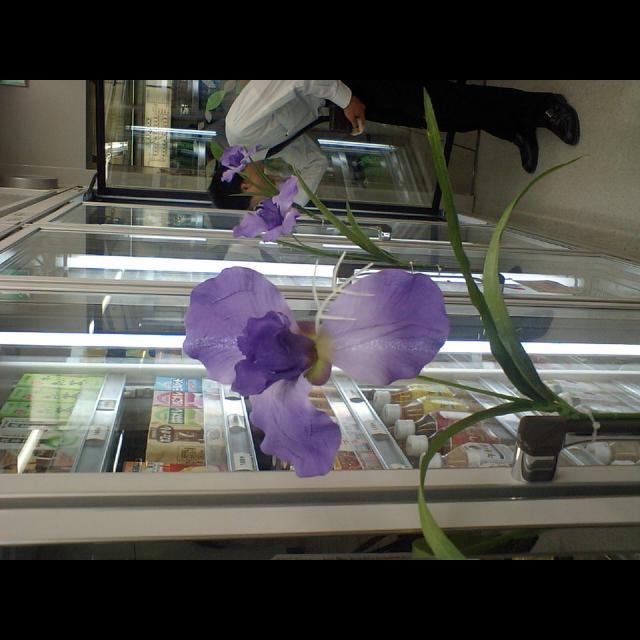Flower: (182, 264, 450, 484), (310, 267, 460, 389), (232, 174, 298, 240), (216, 142, 262, 184)
